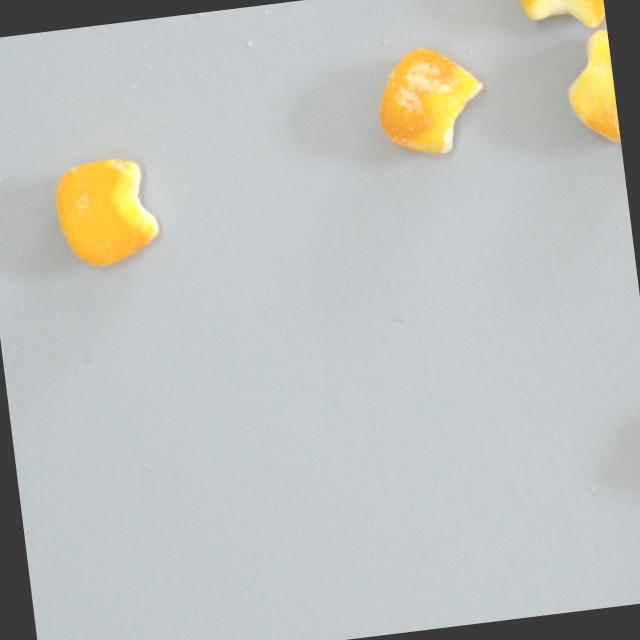no_canjicado: (520, 0, 606, 36)
pelicula: (370, 32, 490, 162), (51, 152, 162, 271), (557, 26, 621, 151)
